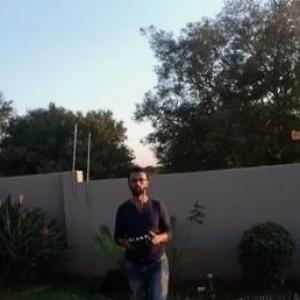follow: (112, 153, 176, 299)
